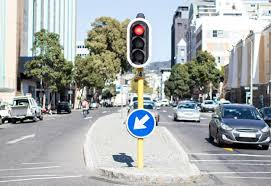signal: (128, 19, 149, 66)
